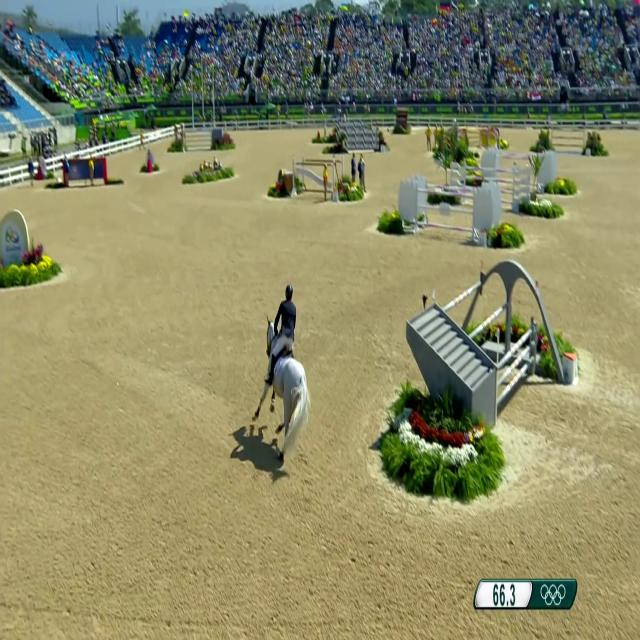Horse Running: (245, 309, 330, 472)
